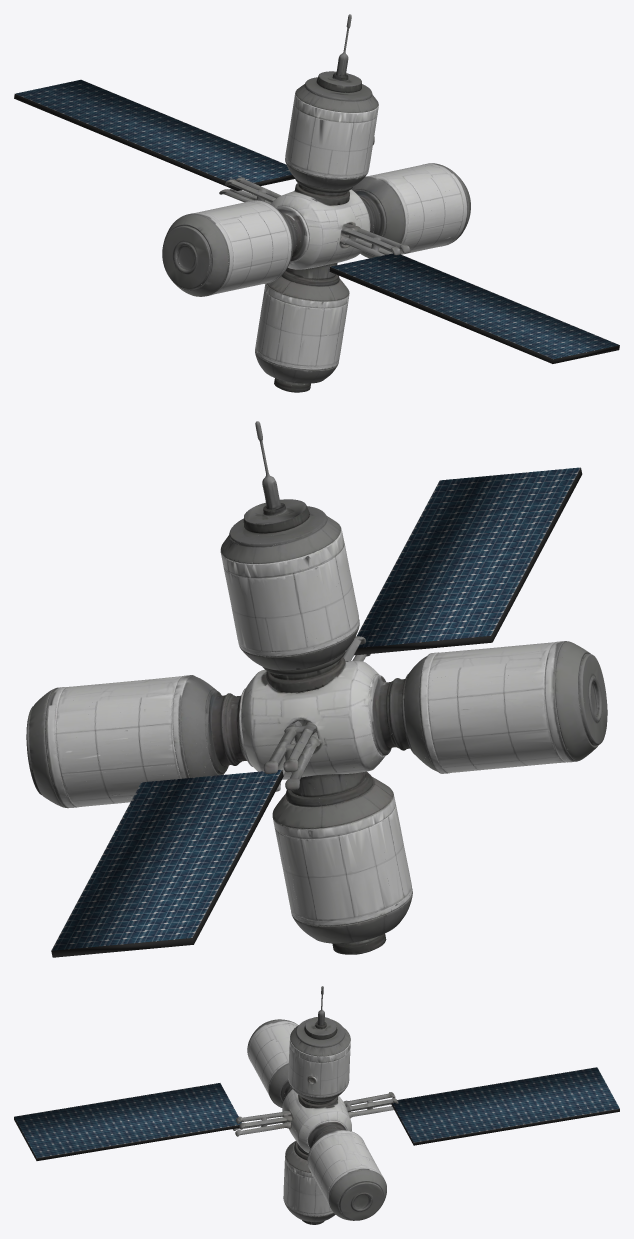
File: station_thalassa.glb
The picture shows the model from 3 angles, top to bottom: view 1: azimuth 30°, elevation 25°; view 2: azimuth 150°, elevation 25°; view 3: azimuth 270°, elevation 25°; orthographic projection. The views are drawn at different scales.
Visible parts, largest first — view 1: material, Plane.001; view 2: material, Plane.001; view 3: Plane.001, material.
Part boxes in pixels (box(x1,y1,x2,y2)): material: box(162, 14, 470, 392); Plane.001: box(14, 79, 619, 363); material: box(26, 421, 607, 954); Plane.001: box(51, 467, 582, 957); Plane.001: box(14, 1067, 619, 1160); material: box(232, 986, 398, 1224).
Size of the model in its own units: 2.52 by 2.49 by 5.33.
Materials: 3 (2 with a texture image).
